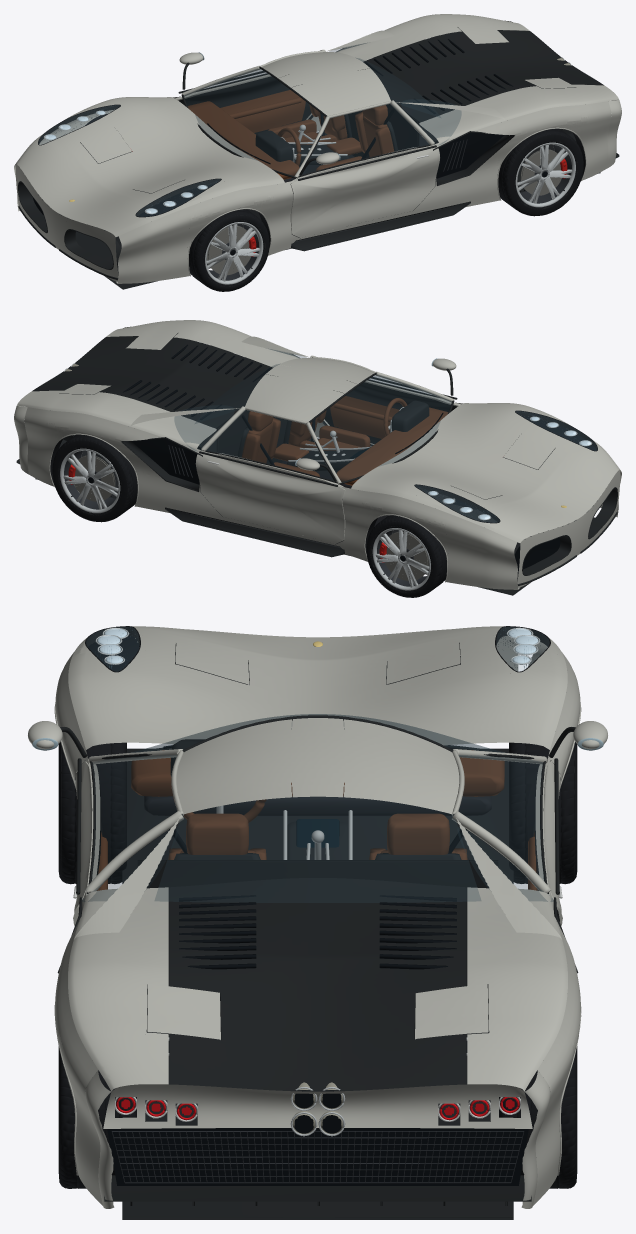
File: preview.glb
The picture shows the model from 3 angles, top to bottom: view 1: azimuth 30°, elevation 25°; view 2: azimuth 150°, elevation 25°; view 3: azimuth 270°, elevation 25°; orthographic projection. The views are drawn at different scales.
Parts seen in each view (by area): view 1: paint_0, paint_1, carbon_0, glass_0, leather_0, rubber_0, alloy_0, black_0, lamp_lens_0, brake_0, dark_metal_0, chrome_0 (+2 smaller); view 2: paint_0, paint_1, carbon_0, glass_0, leather_0, rubber_0, black_0, alloy_0, lamp_lens_0, brake_0, dark_metal_0, chrome_0 (+2 smaller); view 3: carbon_0, paint_1, paint_0, glass_0, black_0, rubber_0, leather_0, dark_metal_0, interior_0, lamp_lens_0, chrome_0, tail_0 (+2 smaller).
Boxes of the visible parts, x1,y1,x2,y2 form: paint_0: (14, 14, 618, 283); paint_1: (15, 20, 621, 281); carbon_0: (18, 27, 619, 289); glass_0: (184, 43, 461, 175); leather_0: (187, 90, 394, 179); rubber_0: (38, 35, 585, 291); alloy_0: (205, 57, 575, 284); black_0: (33, 39, 549, 255); lamp_lens_0: (39, 105, 220, 216); brake_0: (126, 143, 561, 275); dark_metal_0: (209, 139, 571, 280); chrome_0: (43, 110, 428, 214); paint_0: (17, 320, 621, 589); paint_1: (14, 326, 620, 587); carbon_0: (16, 333, 617, 595); glass_0: (174, 349, 451, 481); leather_0: (241, 396, 448, 485); rubber_0: (50, 351, 597, 597); black_0: (86, 344, 596, 570); alloy_0: (60, 363, 455, 590); lamp_lens_0: (415, 411, 596, 522); brake_0: (74, 450, 508, 581); dark_metal_0: (64, 445, 455, 586); chrome_0: (207, 407, 592, 520); carbon_0: (57, 627, 578, 1219); paint_1: (68, 626, 567, 1208); paint_0: (28, 642, 607, 1205); glass_0: (82, 714, 553, 902); black_0: (88, 636, 540, 1185); rubber_0: (58, 626, 577, 1188); leather_0: (97, 750, 538, 890); dark_metal_0: (111, 667, 524, 1183); interior_0: (144, 796, 491, 816); lamp_lens_0: (86, 627, 549, 670); chrome_0: (73, 627, 562, 1121); tail_0: (116, 1097, 519, 1120).
Size of the model in its own units: 4.61 by 1.17 by 2.25.
